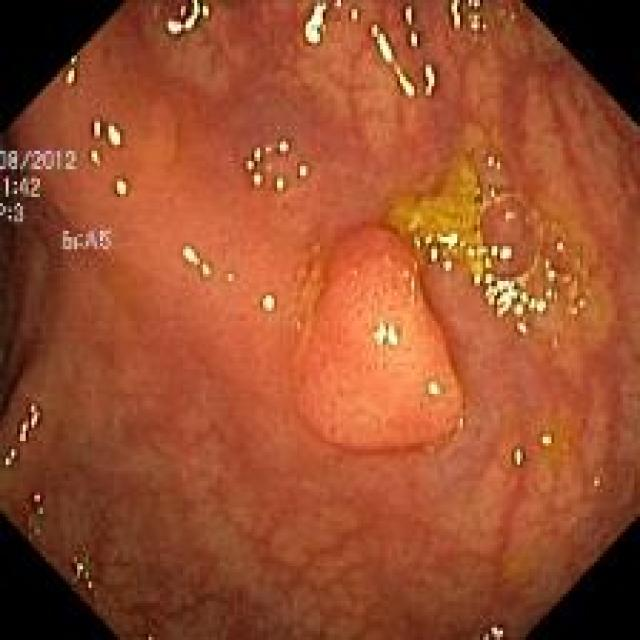Polyps: (294, 225, 462, 450)
